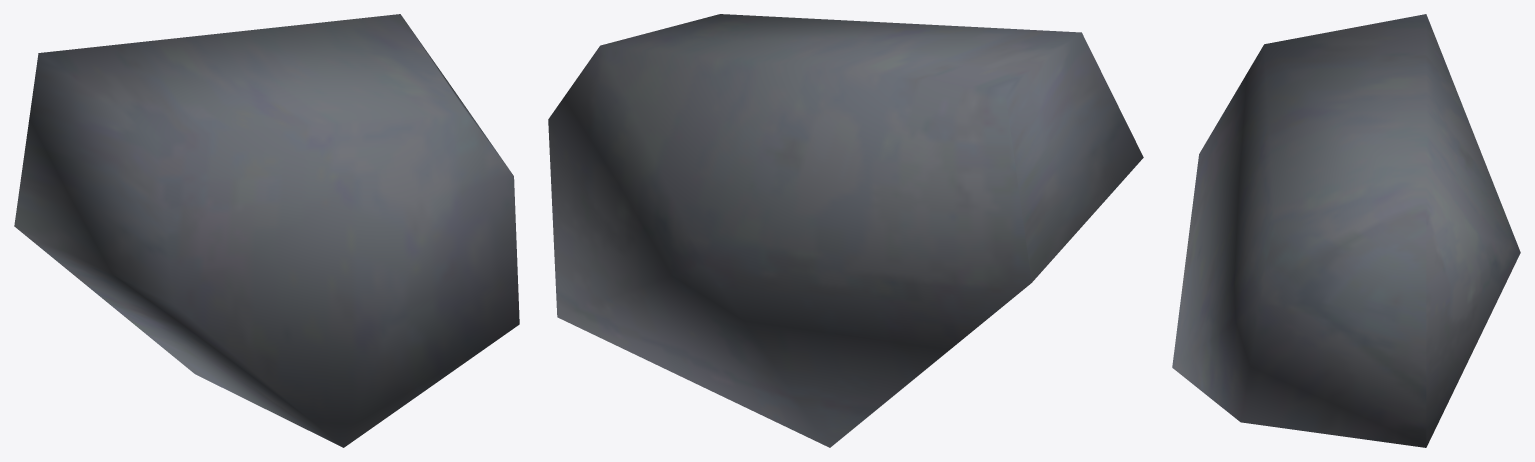
File: Stages_MdSRock02.fbx
3 renders of one model, left to right at view 1: azimuth 30°, elevation 25°; view 2: azimuth 150°, elevation 25°; view 3: azimuth 270°, elevation 25°, orthographic. The views are drawn at different scales.
Parts seen in each view (by area): view 1: Stages_MdSRock02_Vo; view 2: Stages_MdSRock02_Vo; view 3: Stages_MdSRock02_Vo.
Boxes of the visible parts, x1,y1,x2,y2 form: Stages_MdSRock02_Vo: (14, 14, 519, 447); Stages_MdSRock02_Vo: (548, 14, 1143, 447); Stages_MdSRock02_Vo: (1172, 14, 1520, 447).
Size of the model in its own units: 3.24 by 2.57 by 2.59.
1 material, 1 textured.
